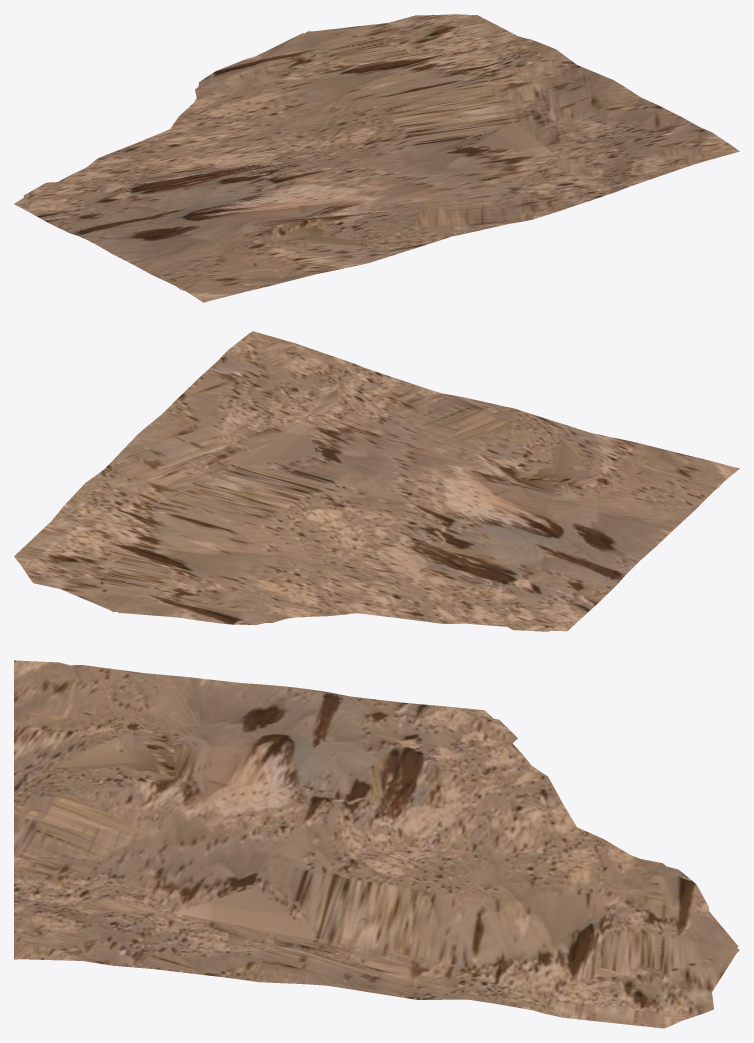
The picture shows the model from 3 angles, top to bottom: view 1: azimuth 30°, elevation 25°; view 2: azimuth 150°, elevation 25°; view 3: azimuth 270°, elevation 25°; orthographic projection. The views are drawn at different scales.
Bounding box in the file's own units: 4.18 × 0.4509 × 3.95.
Materials: 2 (2 with a texture image).
